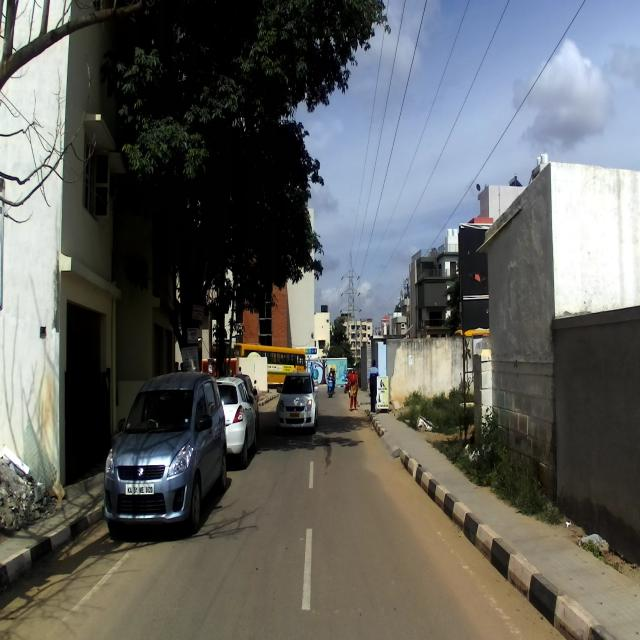car: (103, 370, 227, 540), (275, 370, 318, 430)
